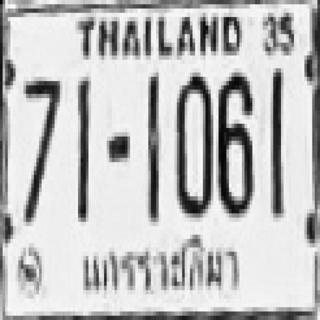N00: (174, 68, 211, 213)
N01: (269, 68, 282, 213), (146, 75, 159, 220), (75, 77, 88, 218)
N06: (216, 68, 252, 213)
N07: (22, 75, 59, 220), (25, 75, 59, 194)
P30: (73, 228, 248, 303)
